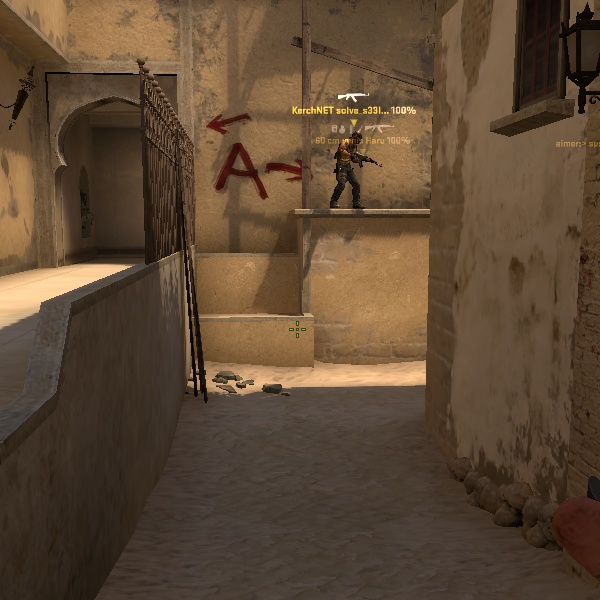t_body: (325, 127, 372, 209)
